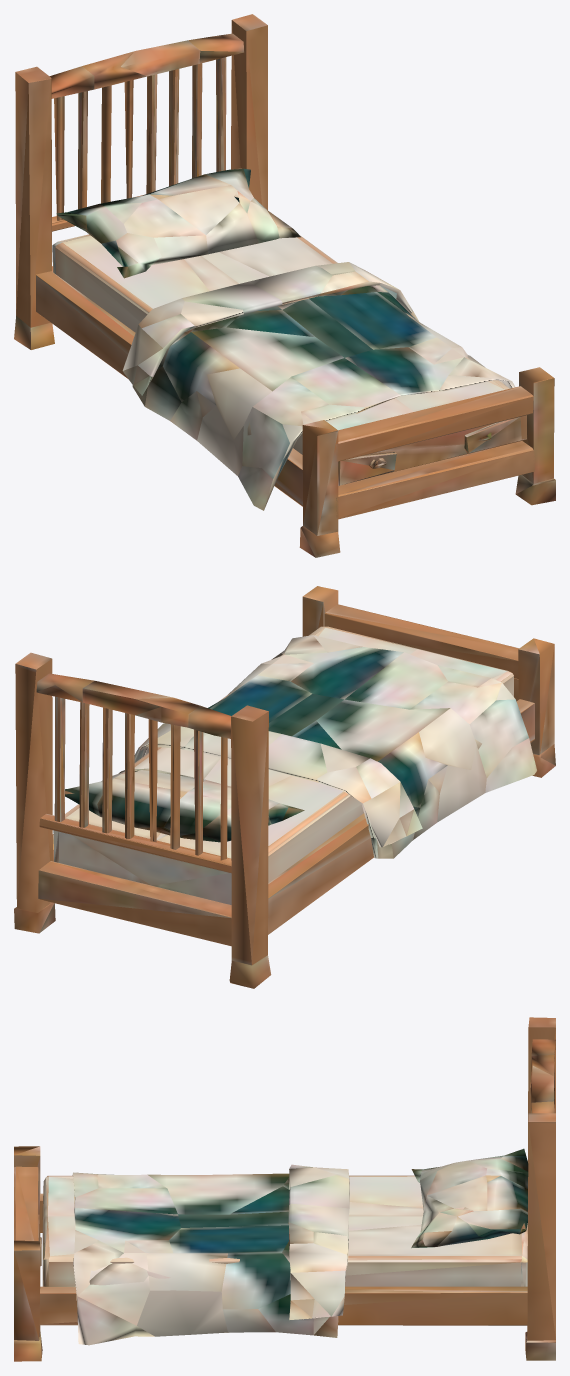
Rendered from bed.lod2.glb.
3 views of the same model, one above another, from view 1: azimuth 30°, elevation 25°; view 2: azimuth 150°, elevation 25°; view 3: azimuth 270°, elevation 25° (orthographic). The views are drawn at different scales.
Size of the model in its own units: 1.1 by 1 by 2.05.
1 material, 1 textured.
